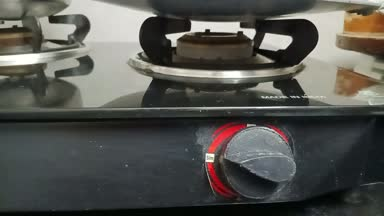noflame_gason: (131, 14, 337, 204)
